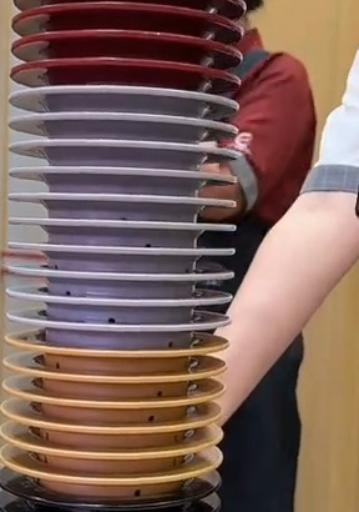Janback: (11, 498, 206, 512)
Jangold: (19, 391, 221, 419), (13, 367, 223, 392), (38, 442, 217, 467), (9, 348, 229, 367), (25, 419, 215, 440), (40, 469, 201, 489)
Janred: (28, 29, 225, 60), (21, 6, 229, 34), (27, 59, 227, 84)
Janwhite: (15, 184, 226, 212), (36, 111, 239, 137), (26, 137, 228, 162), (12, 215, 224, 238), (25, 285, 223, 309), (19, 309, 213, 332), (34, 90, 224, 111), (24, 165, 233, 184), (28, 244, 226, 262), (28, 266, 226, 280)
